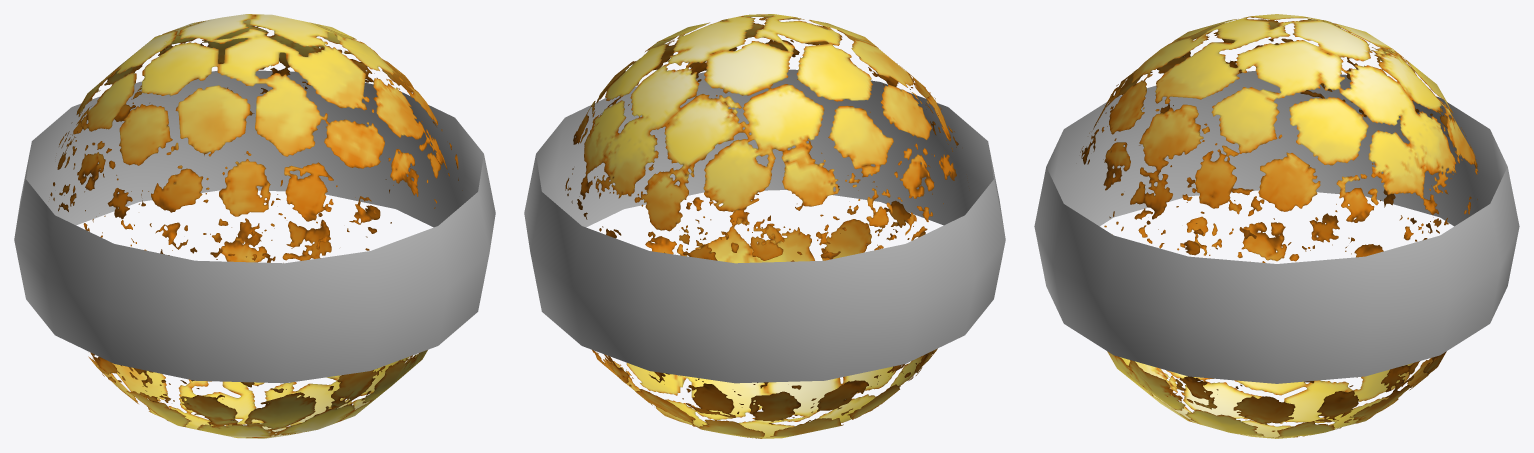
The model's file is prp_shockwave_fullsphere.fbx.
The picture shows the model from 3 angles, left to right: view 1: azimuth 30°, elevation 25°; view 2: azimuth 150°, elevation 25°; view 3: azimuth 270°, elevation 25°; orthographic projection.
Visible parts, largest first — view 1: prp_shockwave_fullSphere; view 2: prp_shockwave_fullSphere; view 3: prp_shockwave_fullSphere.
Part boxes in pixels (x1,y1,x2,y2): prp_shockwave_fullSphere: [14, 14, 495, 438]; prp_shockwave_fullSphere: [524, 14, 1005, 438]; prp_shockwave_fullSphere: [1034, 14, 1519, 438].
Size of the model in its own units: 227 by 200 by 227.
